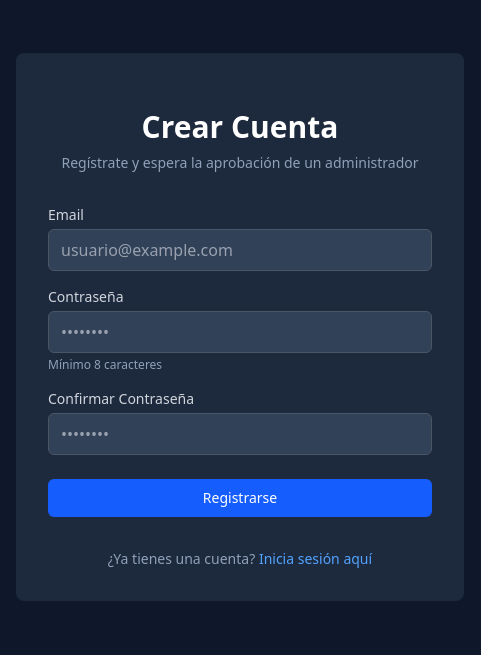
Scenario: SigninPage › debe mostrar error cuando el registro falla
Type "test@example.com" into the field labelled "Email".
click(240, 250); type("test@example.com")  # box [48,229,432,271]
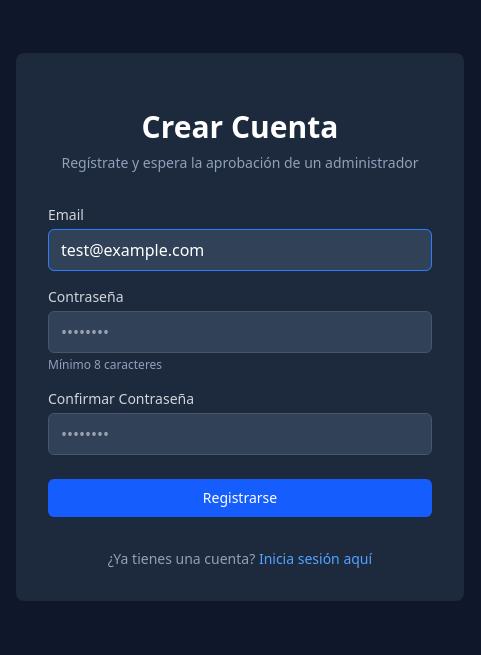
Type "password123" into the password field labelled "Contraseña".
click(240, 332); type("password123")  # box [48,311,432,353]
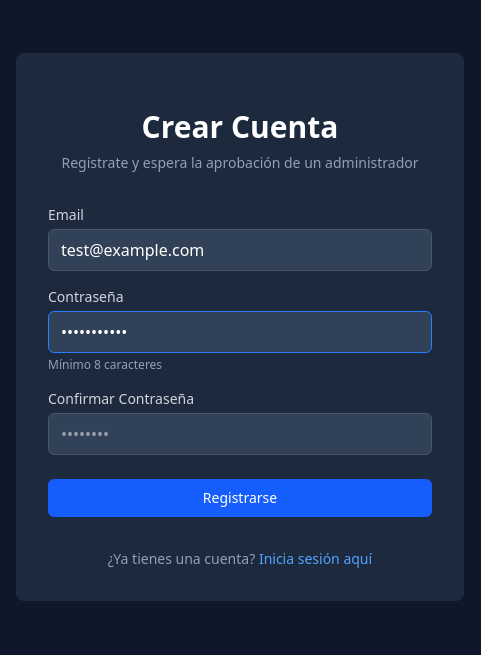
Type "password123" into the password field labelled "Confirmar Contraseña".
click(240, 434); type("password123")  # box [48,413,432,455]
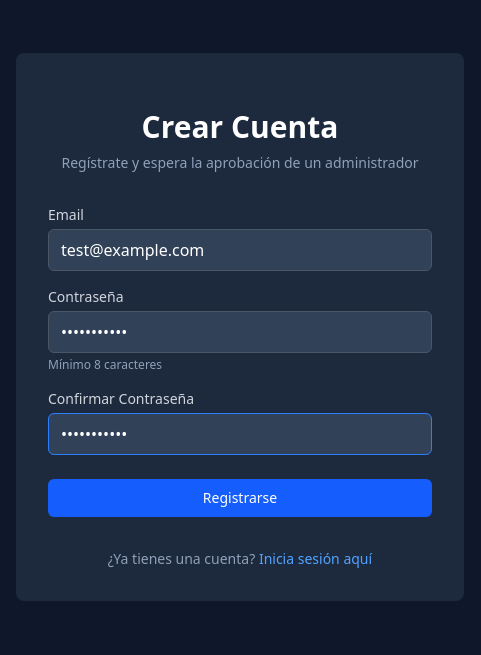
Click the button "Registrarse".
click(240, 498)  # box [48,479,432,517]
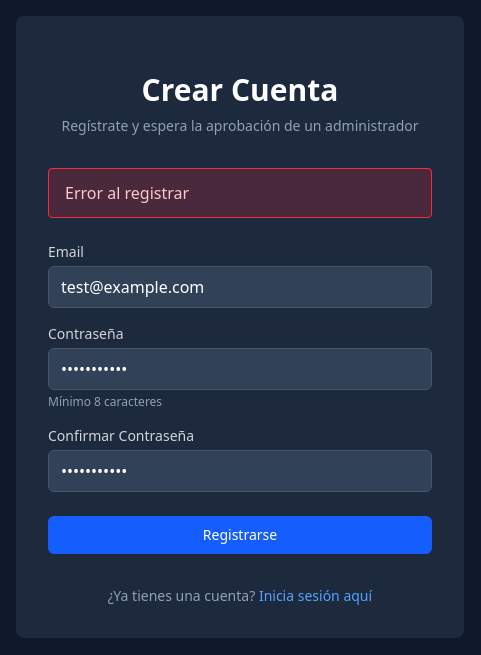
Check: the text "Error al registrar" is shown, box [48,168,432,218]
